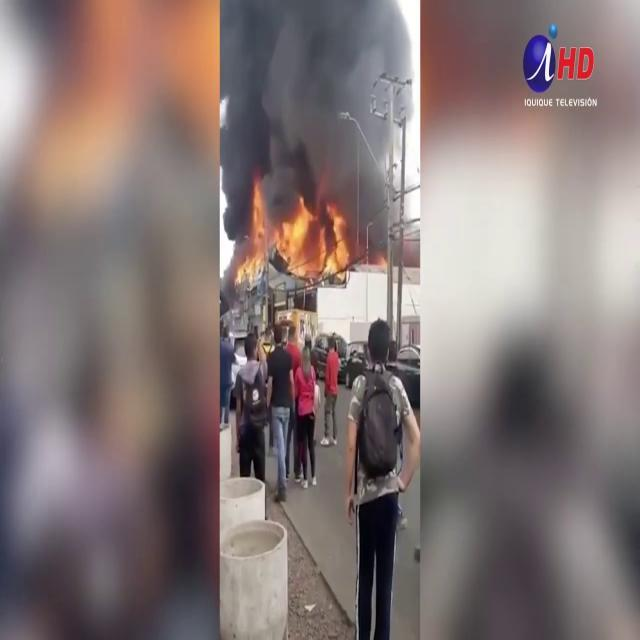Fire: (234, 183, 356, 286)
Smoke: (220, 1, 418, 222)
